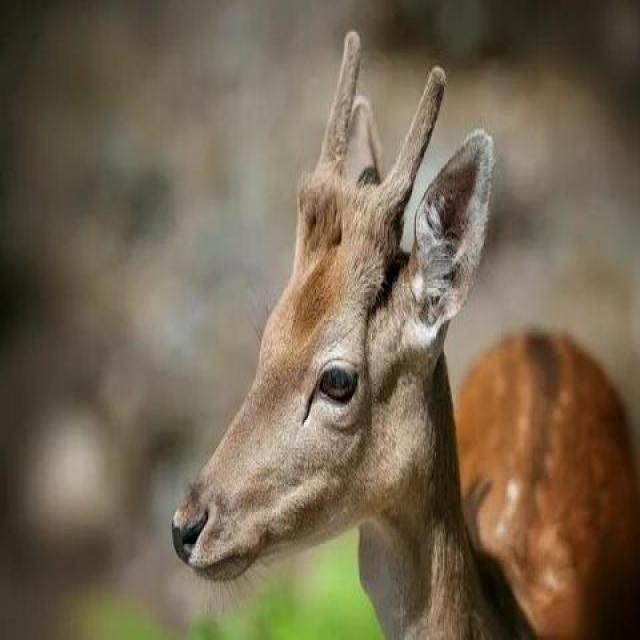deer: (169, 48, 611, 640)
